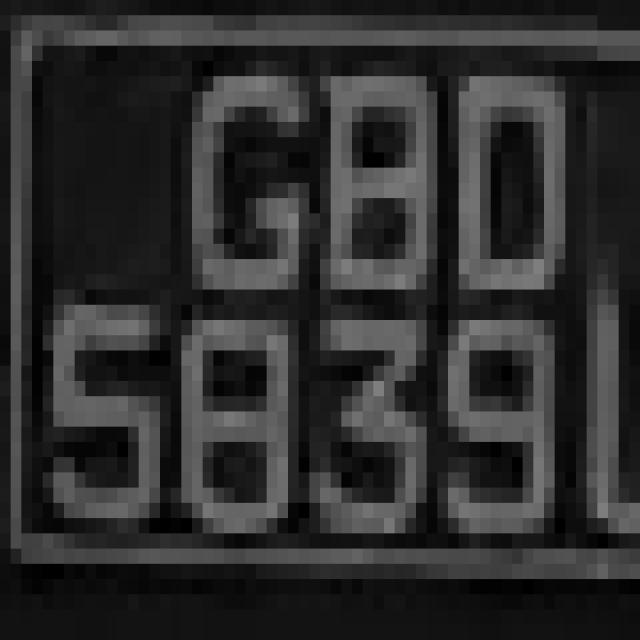3: (267, 259, 437, 549)
5: (11, 259, 170, 533)
8: (160, 274, 309, 564)
9: (406, 244, 566, 564)
B: (278, 30, 438, 320)
D: (438, 15, 598, 320)
G: (150, 0, 310, 305)
